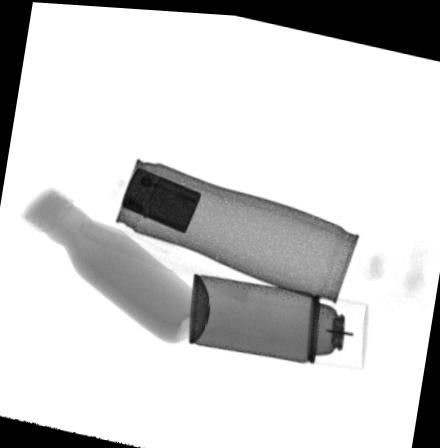Lighter: (120, 165, 203, 229)
Sprayer: (190, 270, 369, 366)
